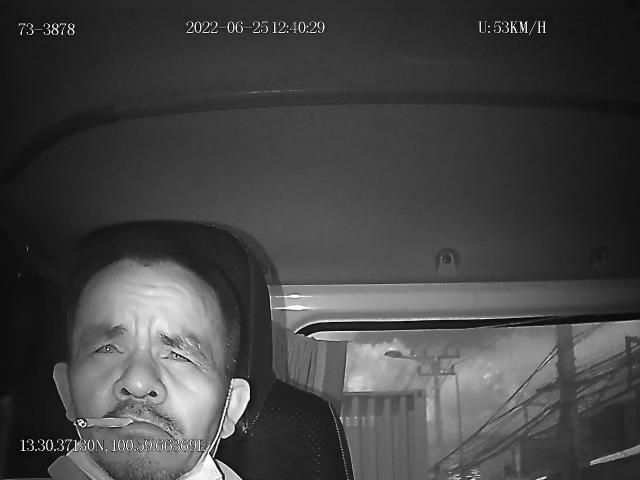SafeDriving: (84, 330, 128, 366)
Smoking: (74, 414, 138, 432)
